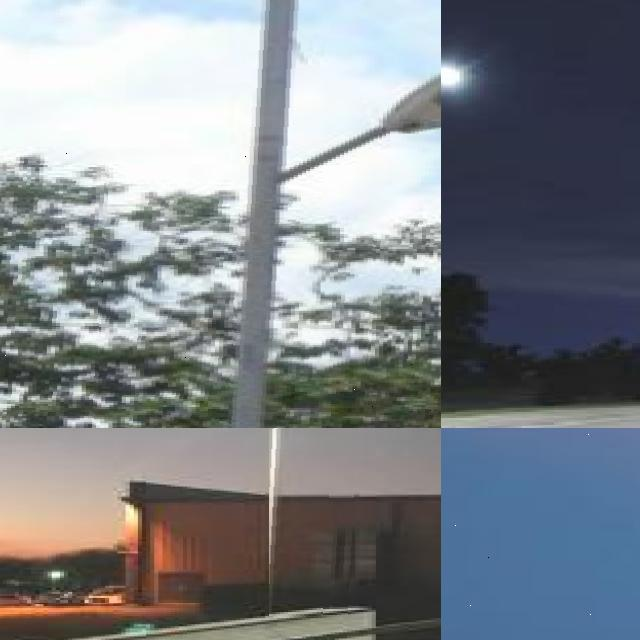street light: (0, 0, 441, 428), (441, 428, 640, 629), (268, 428, 362, 615), (48, 569, 66, 592)
